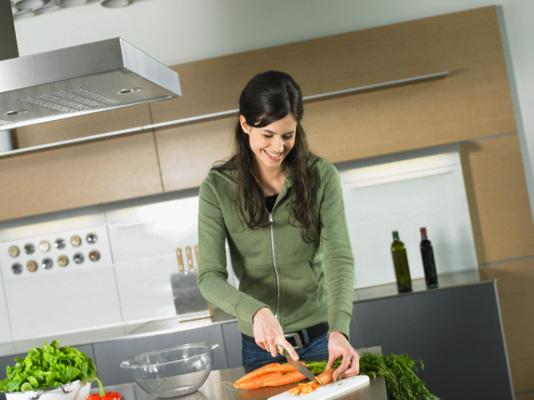person: (196, 70, 361, 386)
